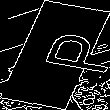P_W: (8, 30, 102, 80)
